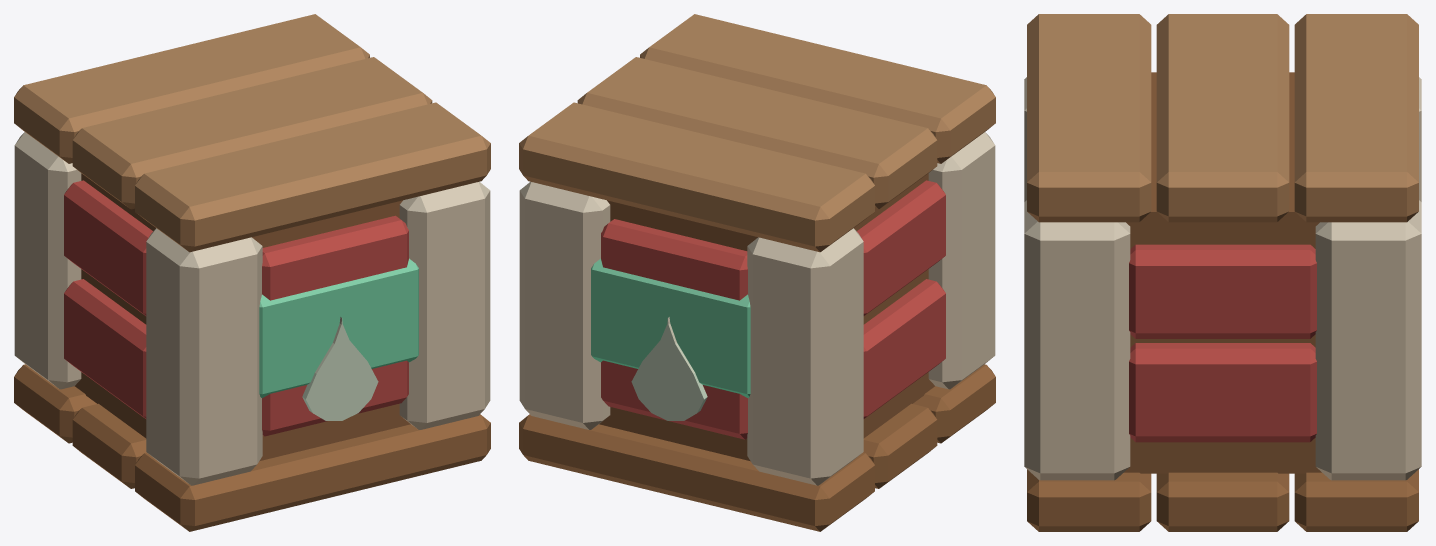
File: ranch_crate_goo.fbx
3 renders of one model, left to right at view 1: azimuth 30°, elevation 25°; view 2: azimuth 150°, elevation 25°; view 3: azimuth 270°, elevation 25°, orthographic. The views are drawn at different scales.
Visible parts, largest first — view 1: ranch_crate_goo; view 2: ranch_crate_goo; view 3: ranch_crate_goo.
Boxes of the visible parts, x1=… form: ranch_crate_goo: x1=14, y1=14, x2=490, y2=531; ranch_crate_goo: x1=519, y1=14, x2=995, y2=531; ranch_crate_goo: x1=1024, y1=14, x2=1421, y2=531.
Size of the model in its own units: 3 by 3 by 3.
